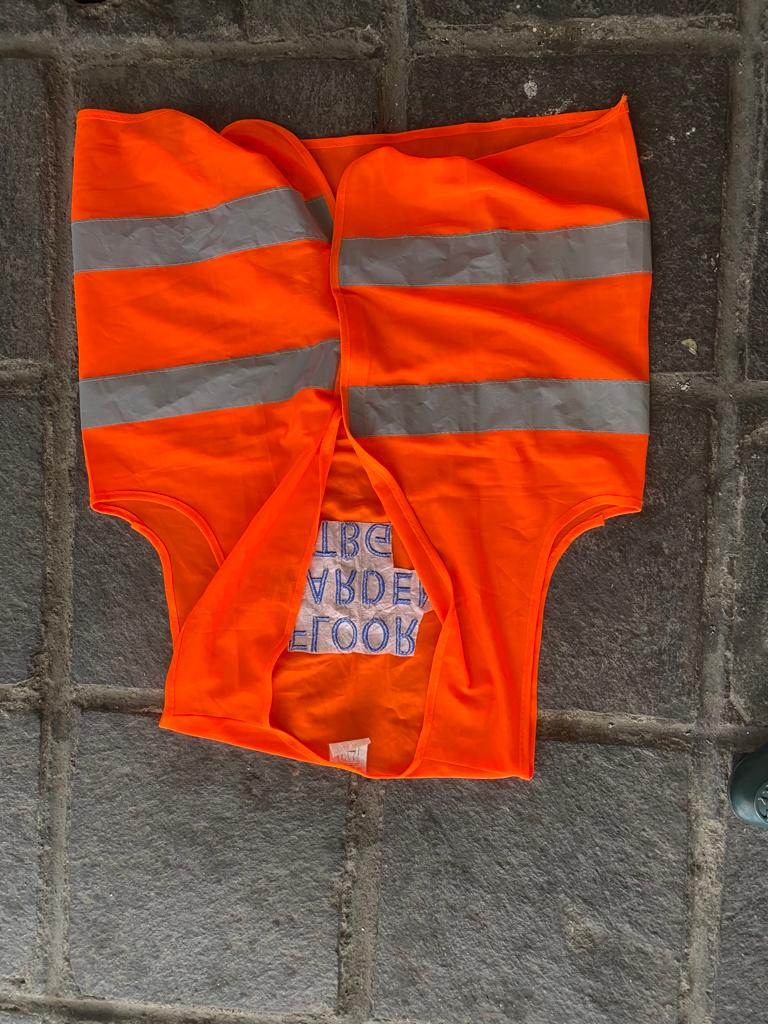ROMPI: (131, 129, 585, 705)
